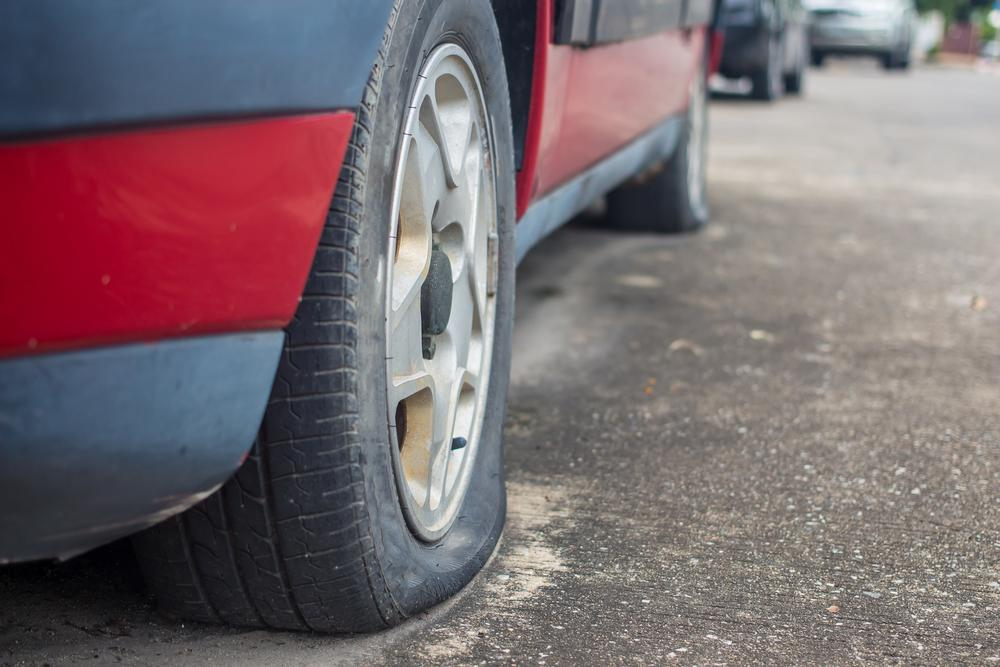tire flat: (142, 0, 518, 633)
